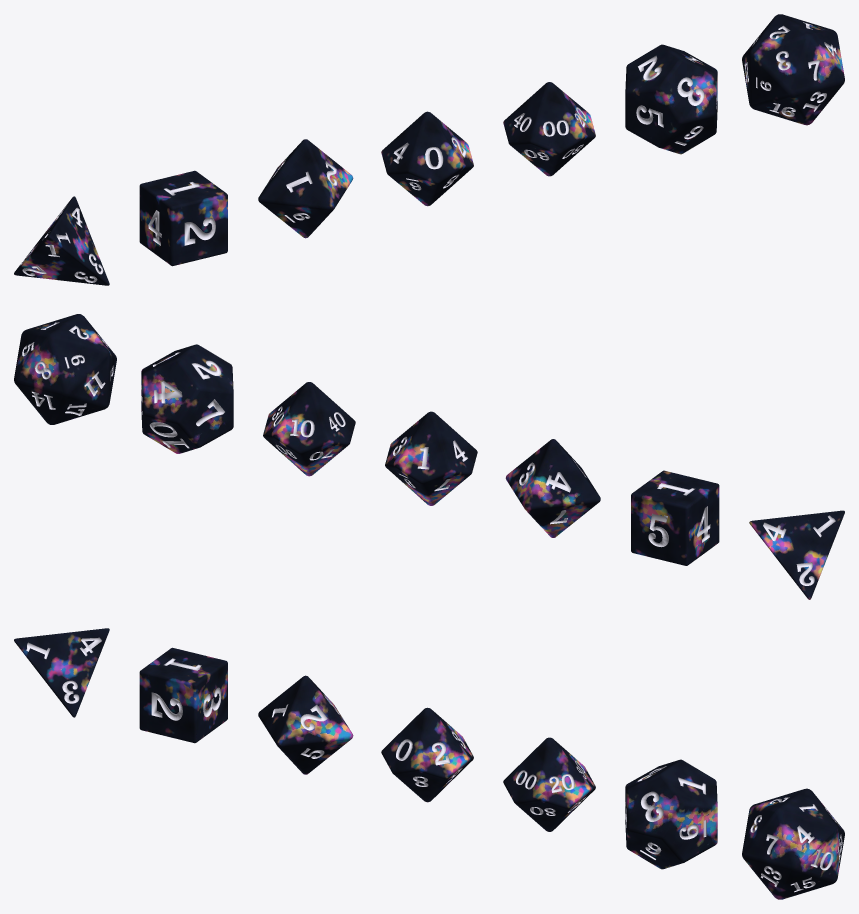
Rendered from black-opal.glb.
The picture shows the model from 3 angles, top to bottom: view 1: azimuth 30°, elevation 25°; view 2: azimuth 150°, elevation 25°; view 3: azimuth 330°, elevation 25°; orthographic projection.
Visible parts, largest first — view 1: d20, d12, d6, d100, d10, d8, d4; view 2: d20, d12, d6, d100, d10, d8, d4; view 3: d20, d12, d6, d8, d100, d10, d4.
Boxes of the visible parts, <box> form: d20: <box>742,14,844,125</box>; d12: <box>625,44,717,154</box>; d6: <box>139,170,227,266</box>; d100: <box>503,82,595,176</box>; d10: <box>381,111,473,206</box>; d8: <box>258,139,353,238</box>; d4: <box>14,196,109,285</box>; d20: <box>14,314,116,424</box>; d12: <box>141,344,233,453</box>; d6: <box>631,470,719,565</box>; d100: <box>263,382,355,476</box>; d10: <box>385,411,477,505</box>; d8: <box>505,439,600,537</box>; d4: <box>749,510,844,599</box>; d20: <box>742,788,844,899</box>; d12: <box>625,759,717,869</box>; d6: <box>139,647,227,743</box>; d8: <box>258,675,353,774</box>; d100: <box>503,737,595,831</box>; d10: <box>381,707,473,802</box>; d4: <box>14,628,109,717</box>.
Size of the model in its own units: 21.14 by 2.47 by 2.47.
Materials: 14 (7 with a texture image).
